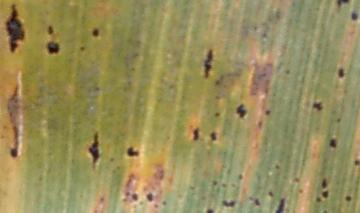tarspot: (4, 2, 25, 53), (86, 131, 100, 164), (7, 125, 20, 158), (202, 48, 213, 79), (46, 40, 60, 55), (236, 103, 248, 120), (126, 144, 140, 158), (274, 197, 286, 213), (220, 198, 236, 209), (192, 127, 201, 141), (312, 100, 323, 111), (328, 137, 338, 149), (336, 1, 351, 8), (256, 118, 264, 131), (320, 189, 330, 199), (209, 131, 218, 142), (145, 192, 154, 203), (350, 10, 358, 22), (91, 28, 100, 38), (46, 24, 54, 35), (344, 193, 352, 204), (253, 197, 261, 208), (320, 177, 328, 187), (131, 192, 139, 202), (338, 67, 344, 80), (237, 171, 244, 182), (267, 189, 275, 198), (211, 178, 219, 187), (274, 161, 280, 173), (264, 108, 272, 116), (292, 176, 300, 184), (160, 199, 168, 207), (314, 195, 321, 204), (204, 207, 214, 213), (353, 158, 360, 166), (335, 116, 342, 124), (78, 45, 85, 52), (213, 111, 221, 117), (297, 187, 303, 195), (153, 203, 158, 209), (322, 209, 328, 213)
